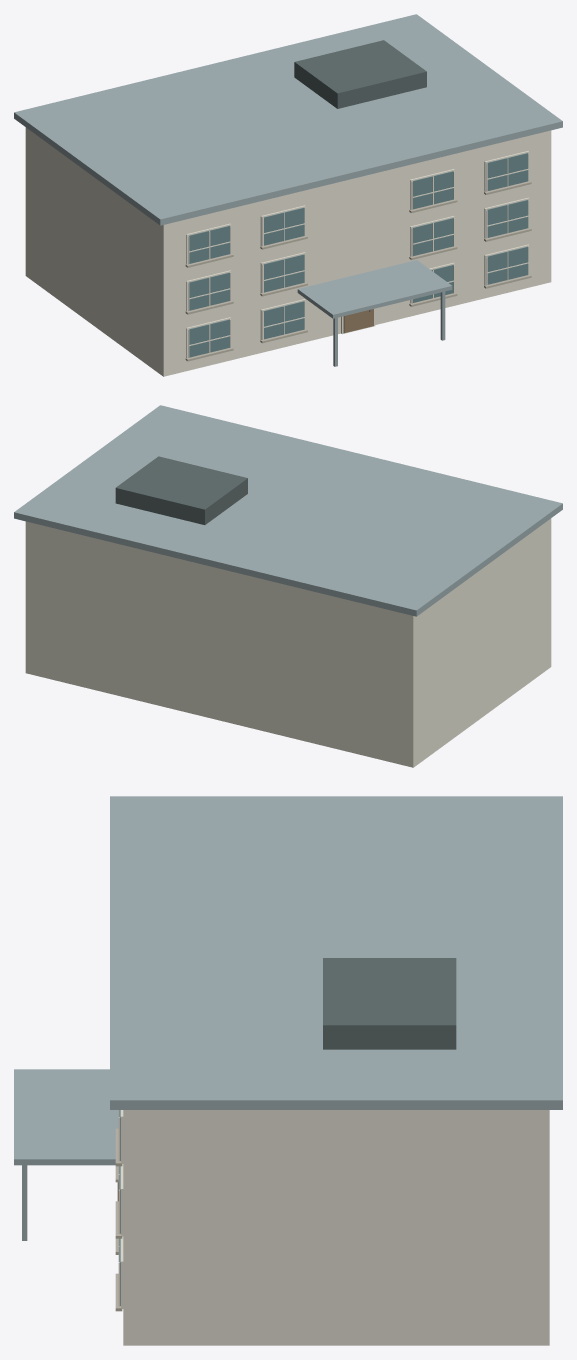
3 renders of one model, top to bottom at view 1: azimuth 30°, elevation 25°; view 2: azimuth 150°, elevation 25°; view 3: azimuth 270°, elevation 25°, orthographic. The views are drawn at different scales.
Size of the model in its own units: 27 by 11.4 by 20.6.
